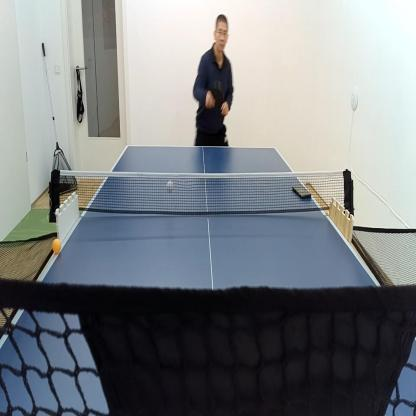Ball: (53, 239, 61, 253), (166, 181, 174, 190)
